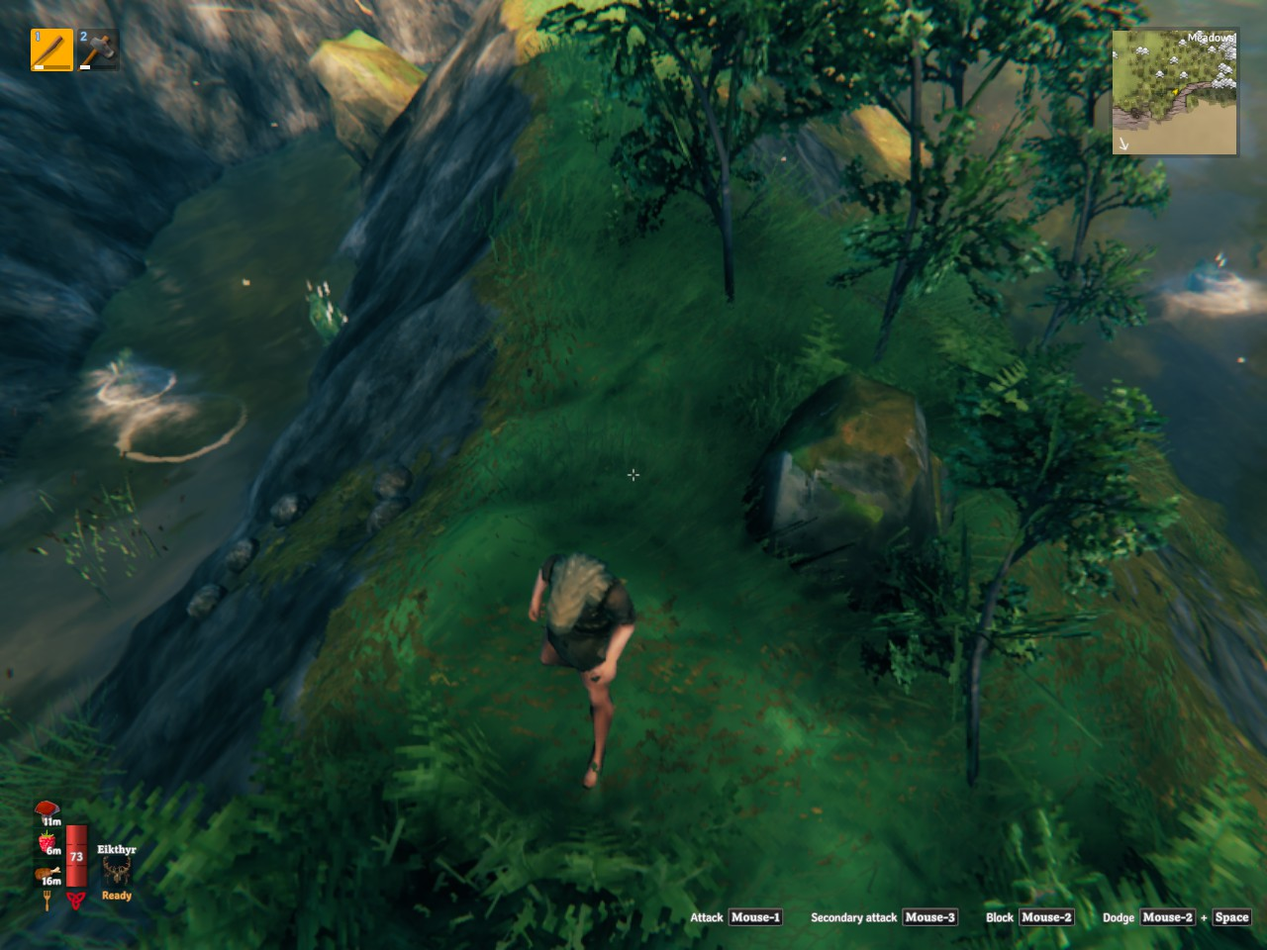Food Indicator: (36, 797, 63, 891)
Health Bar: (63, 820, 90, 891)
Hotbar: (25, 21, 398, 78)
Neck: (307, 282, 347, 343)
Stone: (367, 496, 410, 534), (187, 583, 226, 620), (373, 465, 412, 499), (272, 493, 311, 527), (225, 537, 258, 572)
